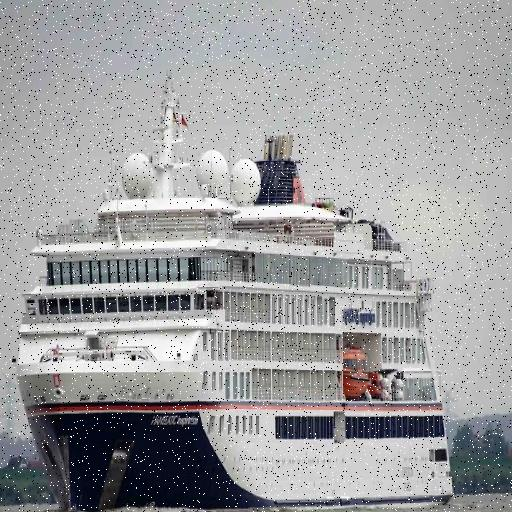cruises: (15, 69, 458, 512)
